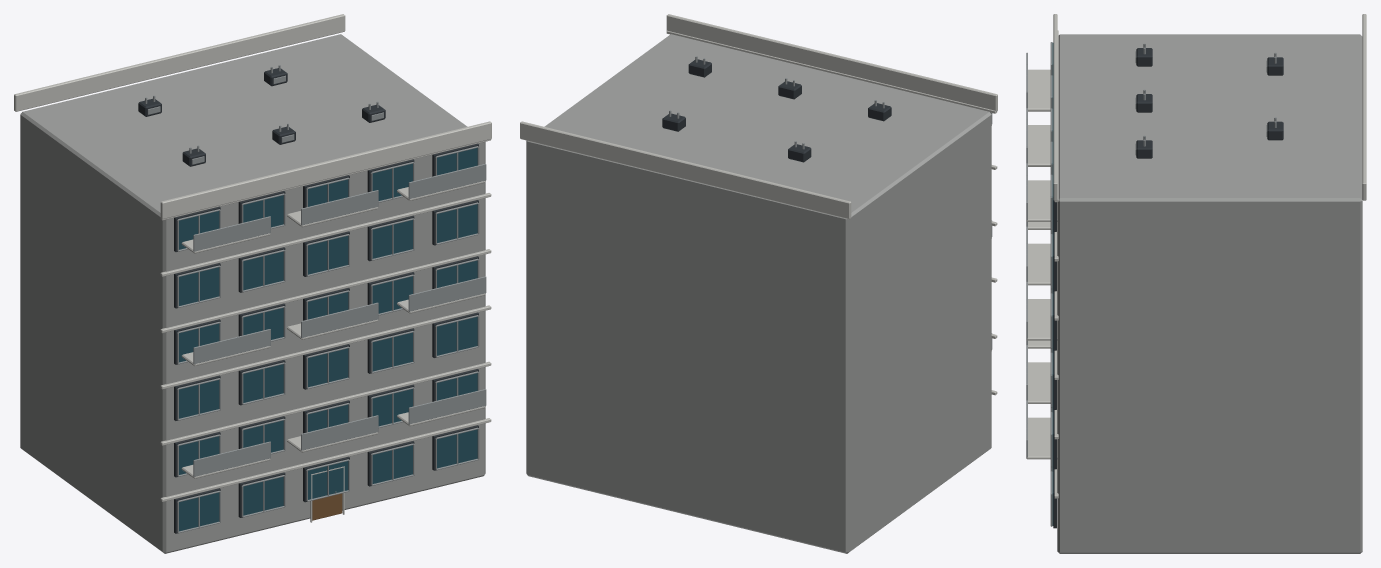
Rendered from Modern_Apartment.glb.
3 renders of one model, left to right at view 1: azimuth 30°, elevation 25°; view 2: azimuth 150°, elevation 25°; view 3: azimuth 270°, elevation 25°, orthographic. The views are drawn at different scales.
Parts seen in each view (by area): view 1: Concrete_Weathered, Glass, Metal, Trim, Metal_Dark, Concrete_Light, Wood; view 2: Concrete_Weathered, Trim, Metal_Dark; view 3: Concrete_Weathered, Concrete_Light, Trim, Metal_Dark, Metal, Glass.
Part boxes in pixels (box(x1,y1,x2,y2)): Concrete_Weathered: box(20, 34, 485, 553); Glass: box(177, 148, 477, 531); Metal: box(145, 65, 486, 533); Trim: box(14, 14, 491, 522); Metal_Dark: box(138, 68, 478, 533); Concrete_Light: box(181, 180, 485, 478); Wood: box(312, 493, 342, 520); Concrete_Weathered: box(526, 34, 991, 553); Trim: box(520, 14, 997, 395); Metal_Dark: box(662, 59, 891, 162); Concrete_Weathered: box(1057, 34, 1362, 553); Concrete_Light: box(1026, 69, 1057, 459); Trim: box(1053, 14, 1366, 498); Metal_Dark: box(1053, 48, 1283, 528); Metal: box(1026, 42, 1276, 526); Glass: box(1052, 43, 1053, 525).
Bounding box in the file's own units: 18.4 × 19.27 × 15.61.
